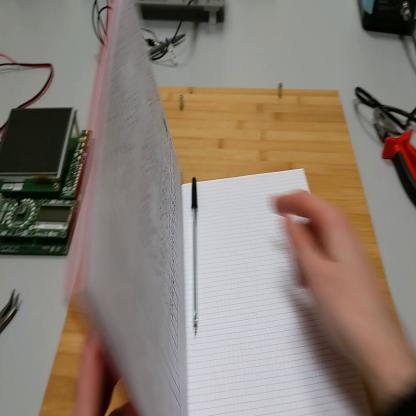hand: (273, 188, 398, 377), (75, 332, 139, 415)
low voltage board: (2, 104, 98, 257)
oscilloscope: (136, 1, 222, 26)
oscilloscope probe tip: (150, 33, 186, 57)
pliers: (376, 107, 416, 206), (2, 290, 22, 334)
register: (70, 1, 371, 416)
welder station: (357, 2, 416, 38)
working area: (40, 86, 403, 413)
